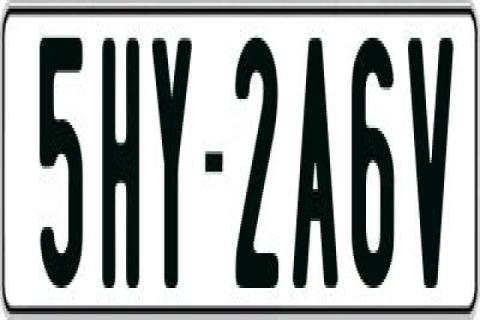0: (234, 35, 284, 285), (36, 29, 82, 294), (351, 35, 395, 285)
A: (292, 35, 340, 288)
H: (102, 29, 140, 279)
V: (408, 35, 454, 303)
Y: (150, 29, 196, 291)
